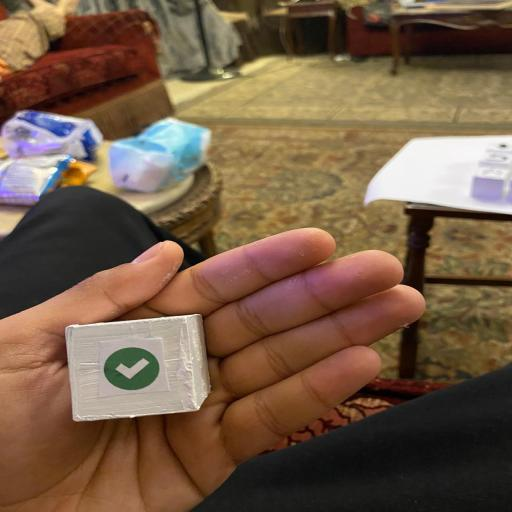Confirm: (64, 312, 212, 422)
